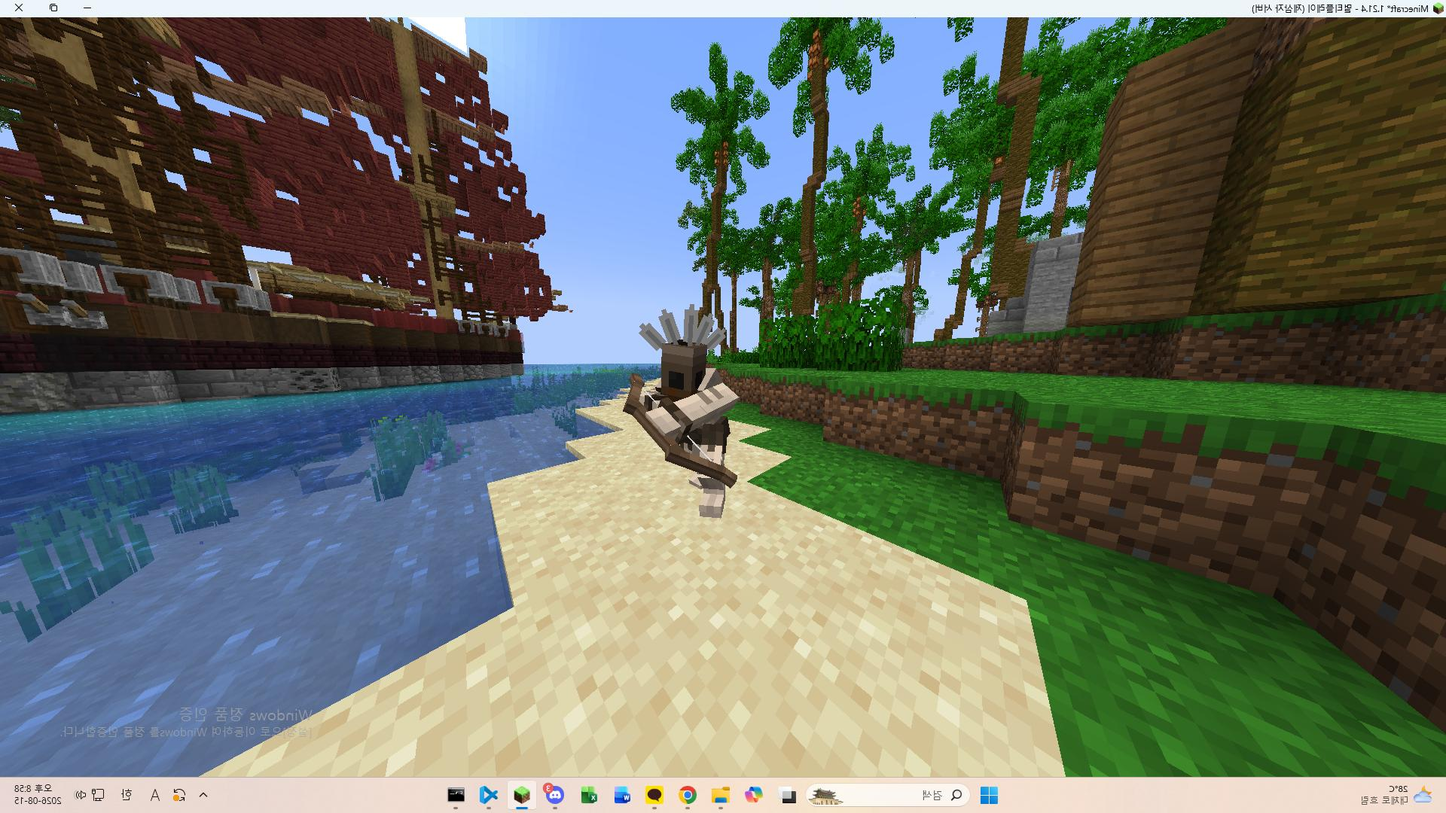bow_indian: (575, 296, 764, 551)
